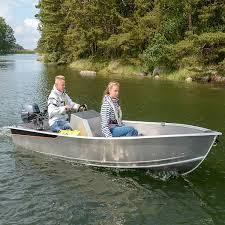fishing boat: (8, 73, 225, 170)
